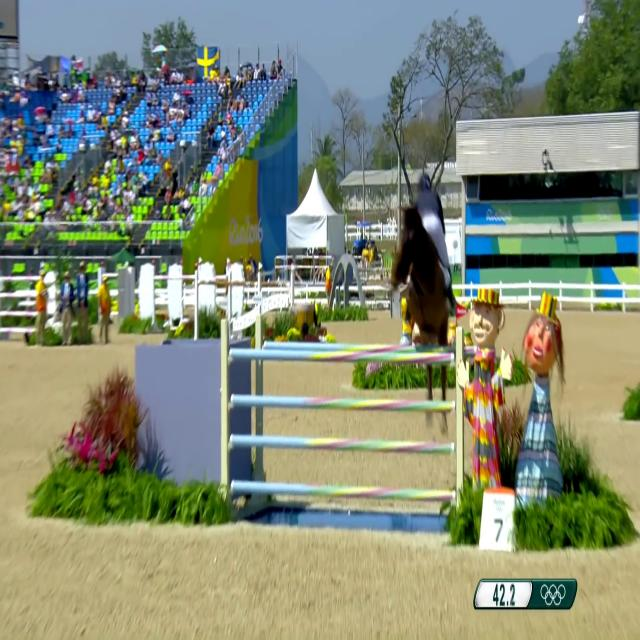Horse Jumping: (379, 163, 481, 429)
